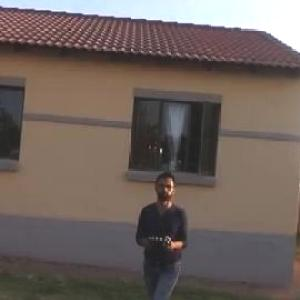follow: (130, 167, 191, 299)
